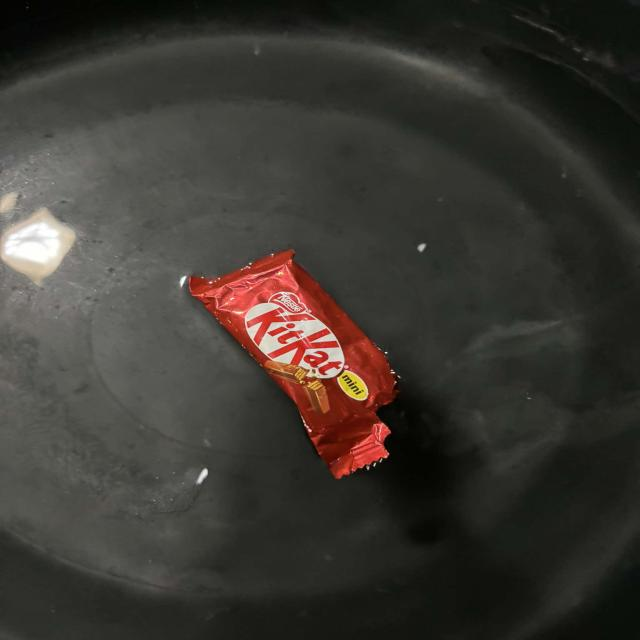Plastic Wrapper: (169, 235, 453, 490)
